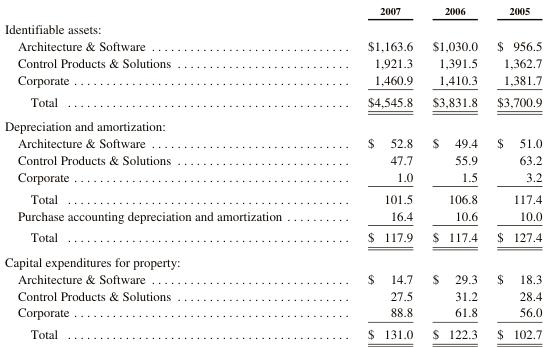table: (3, 4, 541, 341)
table column: (3, 4, 324, 341), (324, 4, 421, 341), (421, 4, 486, 341), (486, 4, 541, 341)
table column header: (3, 4, 541, 19)
table projected row header: (3, 113, 541, 134), (3, 249, 541, 270), (3, 19, 541, 37)
table row: (3, 90, 541, 113), (3, 226, 541, 249), (3, 113, 541, 134), (3, 249, 541, 270), (3, 167, 541, 187), (3, 206, 541, 226), (3, 303, 541, 323), (3, 71, 541, 90), (3, 187, 541, 206), (3, 19, 541, 37), (3, 323, 541, 341), (3, 37, 541, 54), (3, 54, 541, 71), (3, 134, 541, 151), (3, 286, 541, 303), (3, 151, 541, 167), (3, 270, 541, 286), (3, 4, 541, 19)
